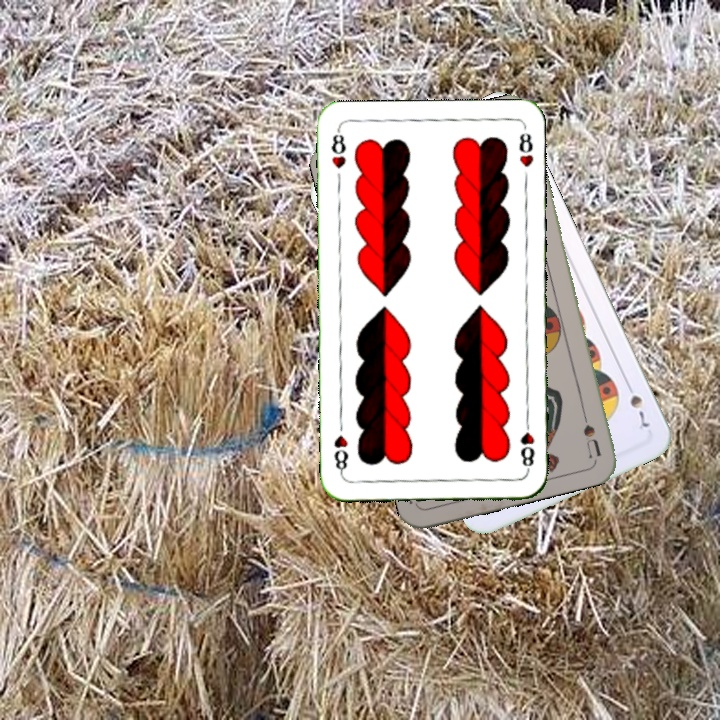H8: (516, 414, 538, 473), (327, 126, 349, 171)
S7: (621, 377, 652, 430)
SU: (576, 400, 604, 460)
